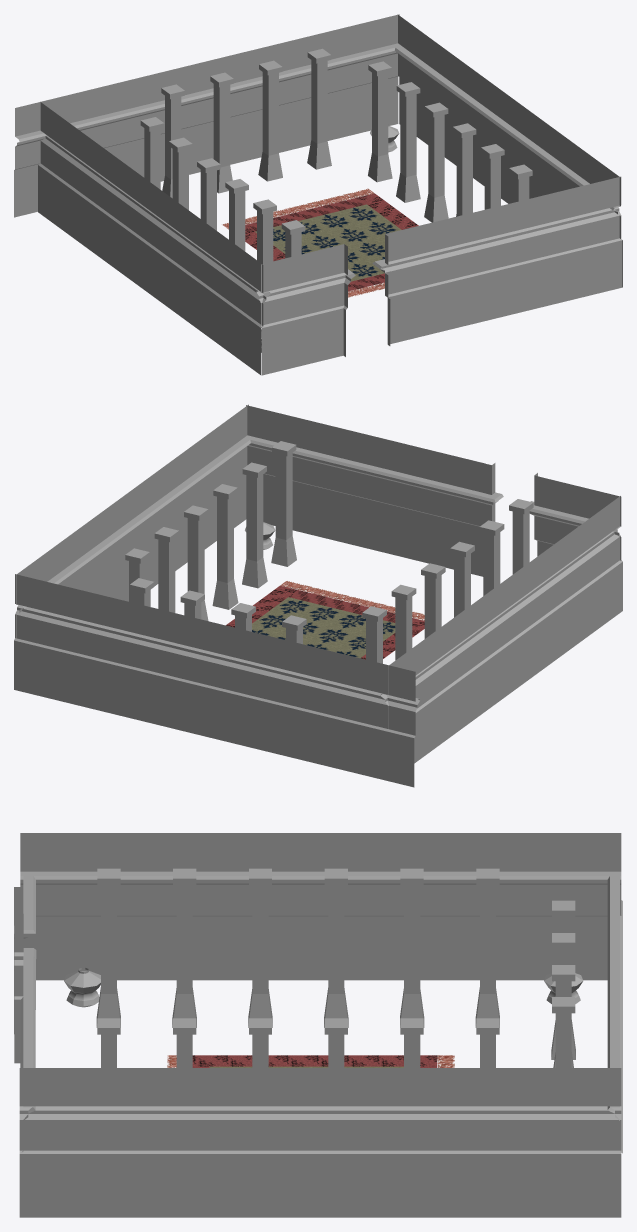
File: BUrasque_Room.fbx
3 views of the same model, one above another, from view 1: azimuth 30°, elevation 25°; view 2: azimuth 150°, elevation 25°; view 3: azimuth 270°, elevation 25° (orthographic). The views are drawn at different scales.
Parts seen in each view (by area): view 1: polySurface1800; view 2: polySurface1800; view 3: polySurface1800.
Boxes of the visible parts, x1,y1,x2,y2 form: polySurface1800: (14,14,622,375); polySurface1800: (14,404,622,787); polySurface1800: (14,833,622,1217).
Bounding box in the file's own units: 23.67 × 6.6 × 24.1.
